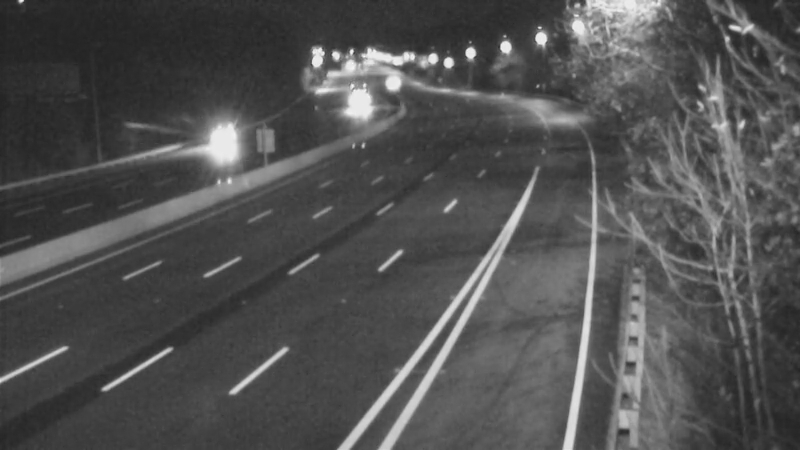vehicle: (364, 56, 414, 106), (189, 112, 239, 162), (330, 84, 380, 134)
